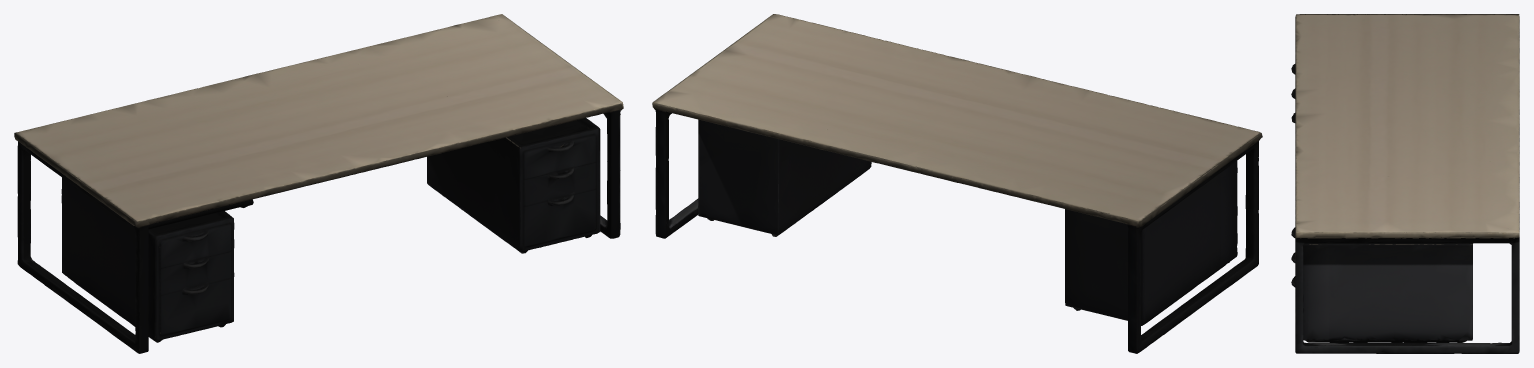
The model's file is masabake 1.fbx.
3 renders of one model, left to right at view 1: azimuth 30°, elevation 25°; view 2: azimuth 150°, elevation 25°; view 3: azimuth 270°, elevation 25°, orthographic. The views are drawn at different scales.
Visible parts, largest first — view 1: masa_low; view 2: masa_low; view 3: masa_low.
Part boxes in pixels (<box>): masa_low: <box>14,14,623,353</box>; masa_low: <box>652,14,1262,353</box>; masa_low: <box>1291,14,1519,353</box>.
Bounding box in the file's own units: 191 × 50.07 × 84.27.
